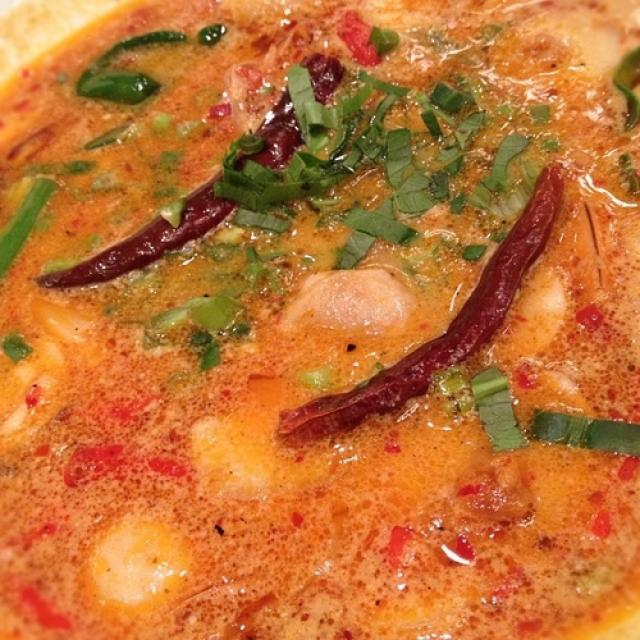汤锅炖物: (29, 37, 603, 604)
